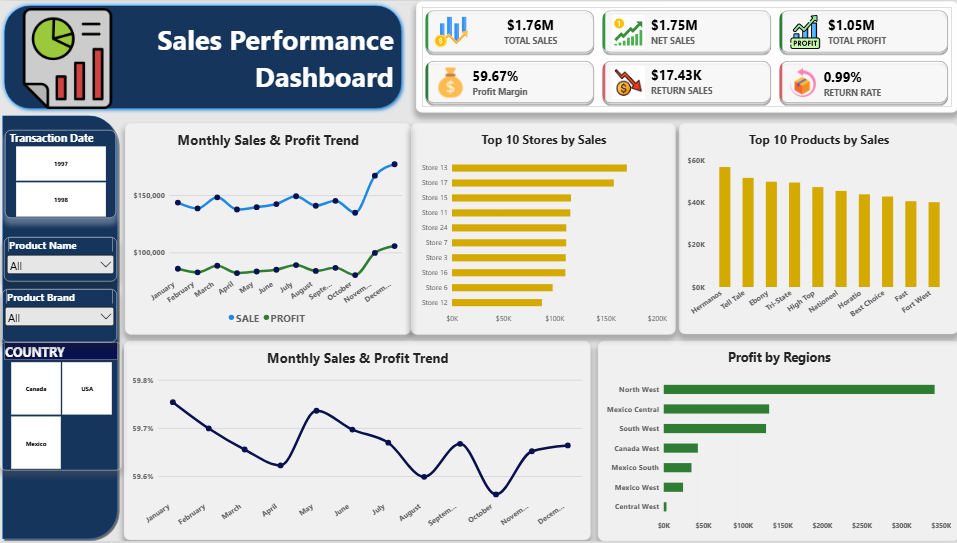

What the dashboard file says about the page in this screenshot:
{"tool":"powerbi","page":{"name":"Sales Performance Dashbooard","canvas":[1920,1080],"ordinal":4},"visuals":[{"type":"cardVisual","fields":{"Data":["Transactions.TOTAL SALE","Transactions.NET SALE","Transactions.PROFIT","Transactions.Profit Margin","Transactions.RETURN SALE","Transactions.RETURN QUANTITY %"]},"box":[831.3,0,1084.3,223.2],"z":0},{"type":"shape","box":[0,223.9,240.2,856.8],"z":1000},{"type":"columnChart","title":"Top 10 Products by Sales","fields":{"Category":["Products.product_brand"],"Y":["Sum(Transactions.sp)"]},"box":[1358,244,558,422],"z":2000},{"type":"lineChart","title":"Monthly Sales & Profit Trend","fields":{"Category":["Transactions.transaction_date.Variation.Date Hierarchy.Month"],"Y":["Sum(Transactions.sp)","Transactions.PROFIT"]},"box":[250.9,244.5,571.9,423.1],"z":3000},{"type":"slicer","fields":{"Values":["Transactions.transaction_date.Variation.Date Hierarchy.Year"]},"box":[10.9,258.7,221.7,176.1],"z":4000},{"type":"slicer","fields":{"Values":["Customers.customer_country"]},"box":[0,682.4,244.5,257.2],"z":5000},{"type":"slicer","fields":{"Values":["Stores.store_state"]},"box":[8.7,471.7,226.1,89.1],"z":6000},{"type":"slicer","fields":{"Values":["Products.product_brand"]},"box":[4.3,576.1,230.4,106.5],"z":7000},{"type":"barChart","title":"Top 10 Stores by Sales","fields":{"Category":["Stores.store_name"],"Y":["Sum(Transactions.sp)"]},"box":[822.8,244.5,529.4,423.1],"z":8000},{"type":"barChart","title":"Profit by Regions","fields":{"Category":["Regions.sales_region"],"Y":["Sum(Transactions.cp)"]},"box":[1196.9,680.3,722.8,399.7],"z":9000},{"type":"shape","box":[0,0,812,224],"z":11000},{"type":"image","box":[28,14,214,202],"z":12000},{"type":"lineChart","title":"Monthly Sales & Profit Trend","fields":{"Category":["Transactions.transaction_date.Variation.Date Hierarchy.Month"],"Y":["Transactions.Profit Margin"]},"box":[248.7,680.3,933.3,397.6],"z":12001}]}

Visuals, with their boxes in screenshot pixels (x1, y1, x2, y2), scaled from the page's 1920x1080 canvas onto the 957x543 screenshot:
cardVisual - Transactions.TOTAL SALE x Transactions.NET SALE: [414,0,955,112]
shape: [0,113,120,542]
"Top 10 Products by Sales" columnChart: [677,123,955,335]
"Monthly Sales & Profit Trend" lineChart: [125,123,410,336]
slicer - Transactions.transaction_date.Variation.Date Hierarchy.Year: [5,130,116,219]
slicer - Customers.customer_country: [0,343,122,472]
slicer - Stores.store_state: [4,237,117,282]
slicer - Products.product_brand: [2,290,117,343]
"Top 10 Stores by Sales" barChart: [410,123,674,336]
"Profit by Regions" barChart: [597,342,956,542]
shape: [0,0,405,113]
image: [14,7,121,109]
"Monthly Sales & Profit Trend" lineChart: [124,342,589,542]
